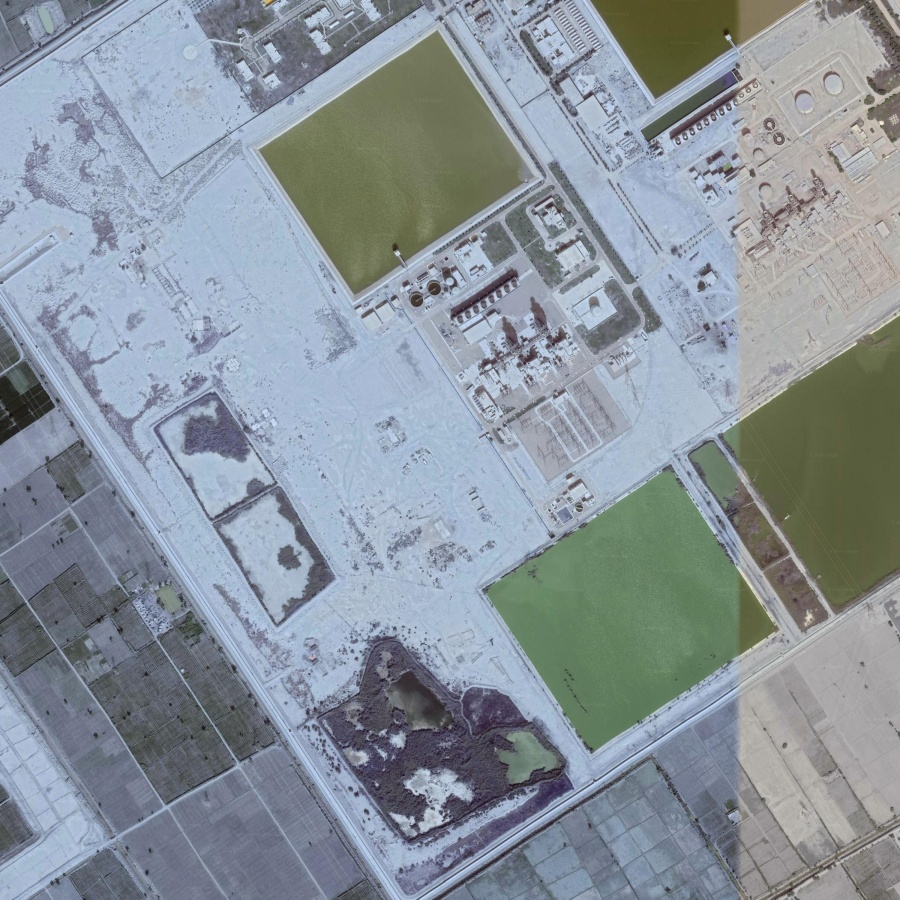PowerPlant: (406, 193, 648, 514), (688, 72, 883, 266)
